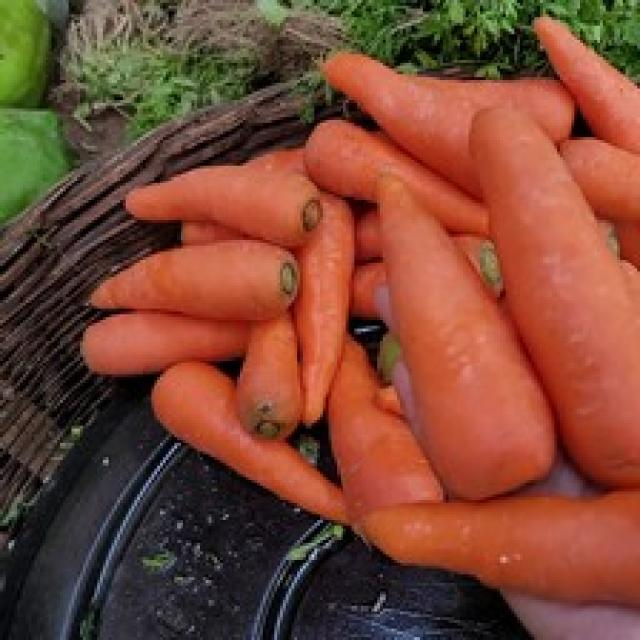Fresh_Carrot: (363, 169, 551, 539), (466, 102, 640, 478), (142, 326, 366, 521), (359, 496, 640, 604), (324, 52, 500, 178), (102, 150, 310, 242), (81, 234, 304, 319), (534, 21, 640, 191)
